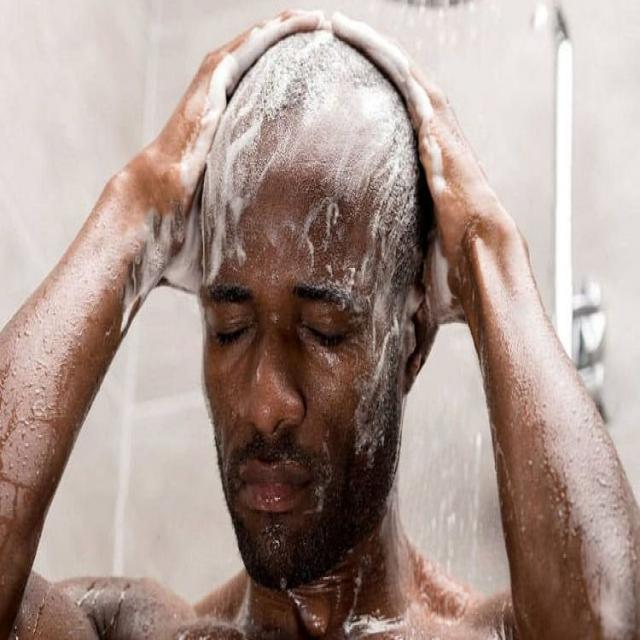bald: (184, 16, 449, 310)
